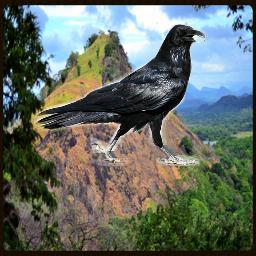Crow: (34, 24, 210, 166)
